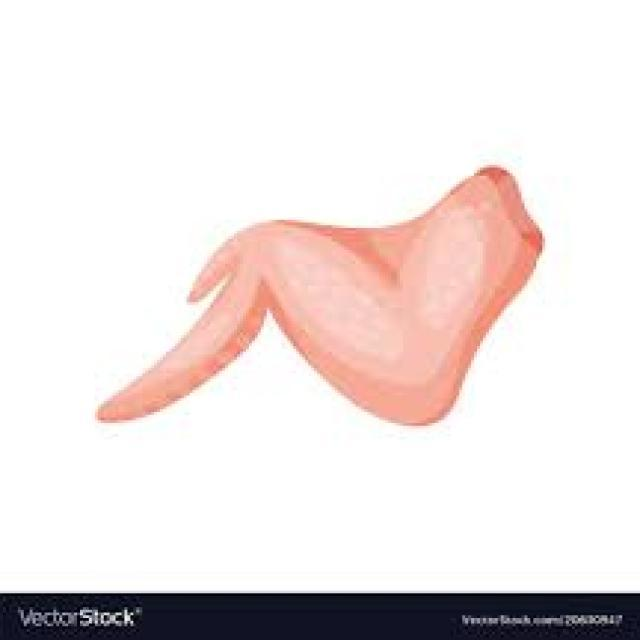wing: (72, 152, 550, 462)
